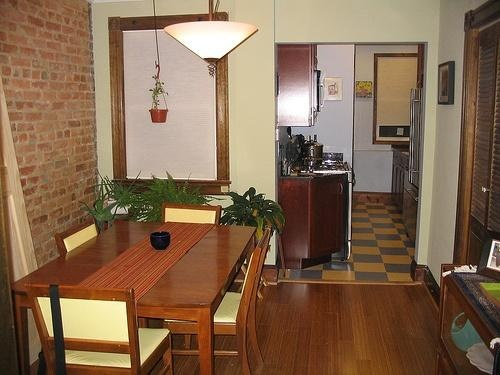chair: (165, 227, 271, 375), (22, 283, 176, 375), (56, 218, 101, 254), (160, 203, 223, 226)
diningtable: (13, 222, 258, 375)
pottedplant: (148, 75, 171, 124)
